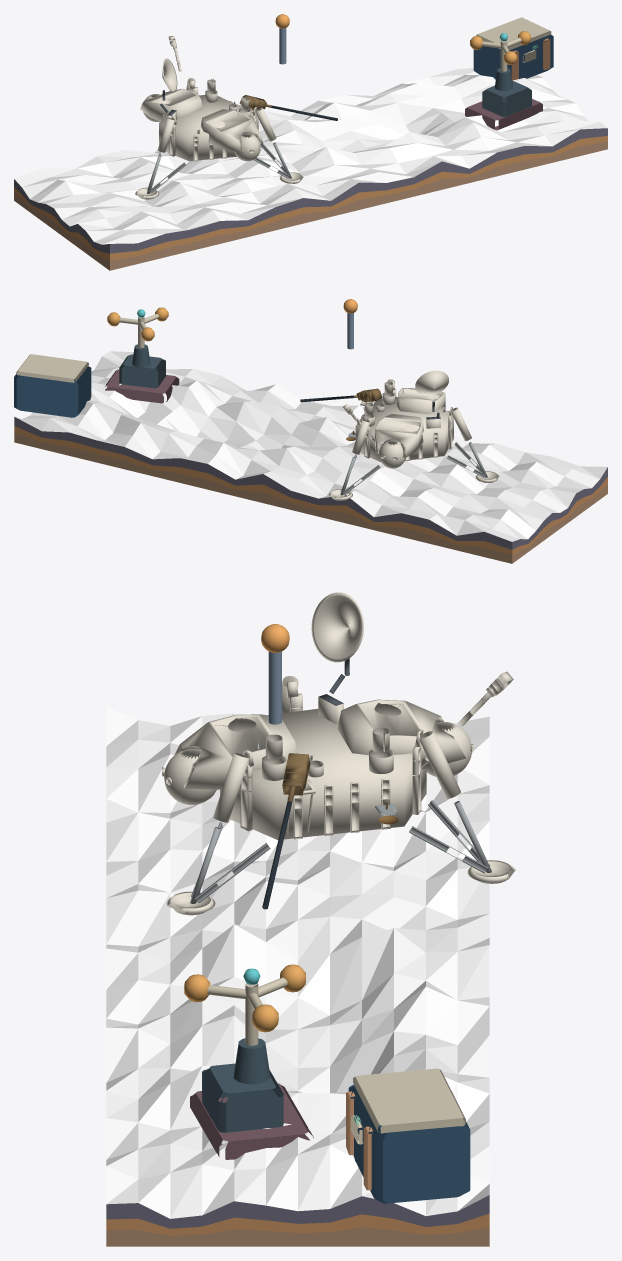
File: apolo-eagle.obj
3 renders of one model, top to bottom at view 1: azimuth 30°, elevation 25°; view 2: azimuth 150°, elevation 25°; view 3: azimuth 270°, elevation 25°, orthographic. The views are drawn at different scales.
Visible parts, largest first — view 1: apolo-eagle; view 2: apolo-eagle; view 3: apolo-eagle.
Boxes of the visible parts, x1,y1,x2,y2 form: apolo-eagle: (14,14,607,270); apolo-eagle: (14,299,607,563); apolo-eagle: (106,592,515,1246).
Size of the model in its own units: 1.67 by 0.5365 by 0.5764.
